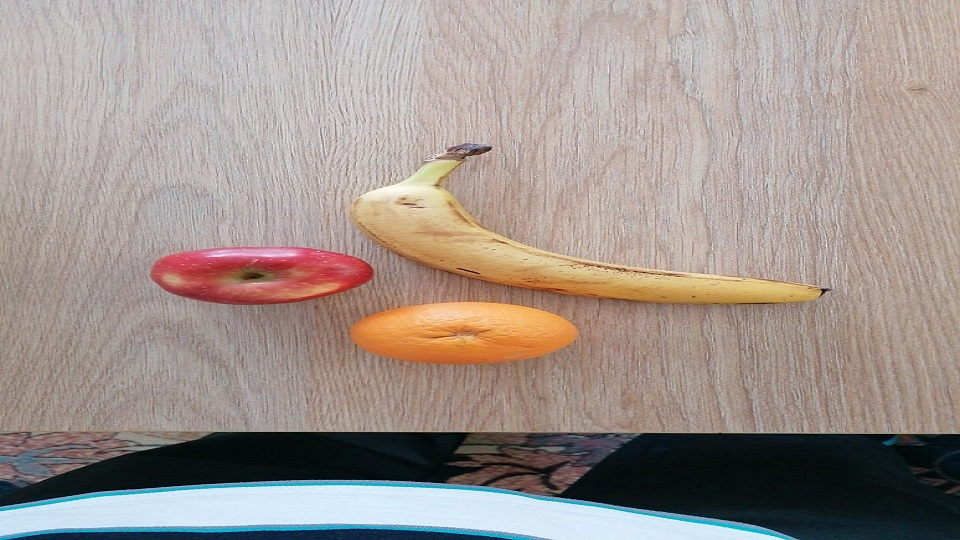elma: (149, 245, 376, 305)
muz: (350, 142, 826, 306)
portakal: (348, 301, 579, 365)
